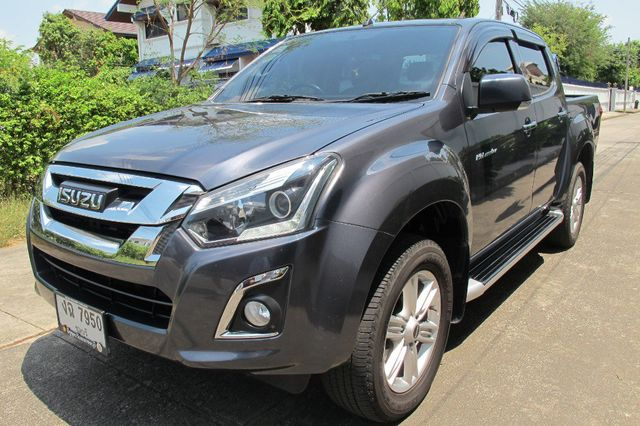pickup: (25, 18, 604, 426)
